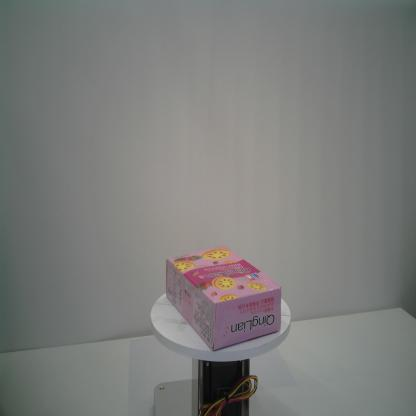Dessert: (165, 242, 283, 354)
